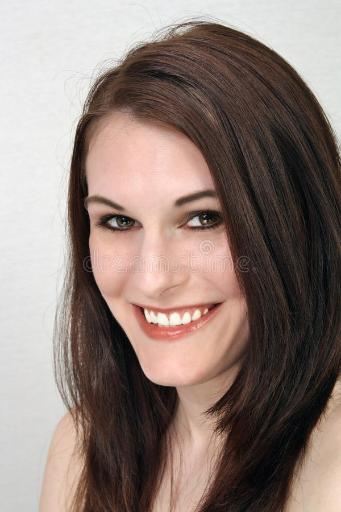left_eye: (179, 212, 224, 238)
left_lip_corner: (214, 298, 227, 317)
right_eye: (97, 214, 142, 237)
right_lip_corner: (129, 297, 143, 315)
